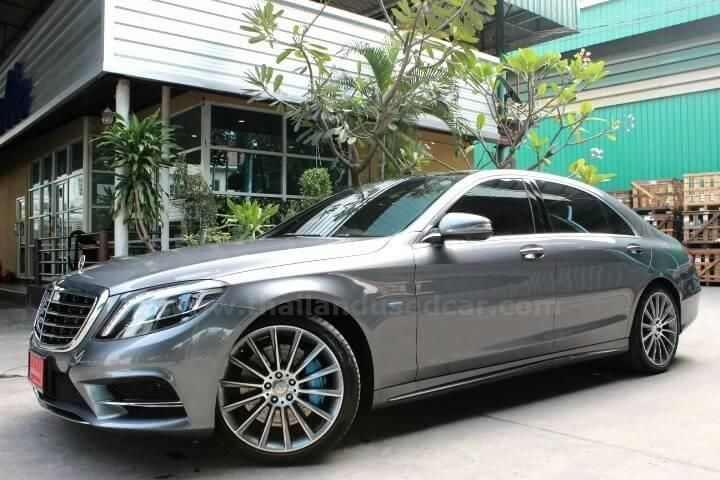sedan: (25, 166, 702, 467)
